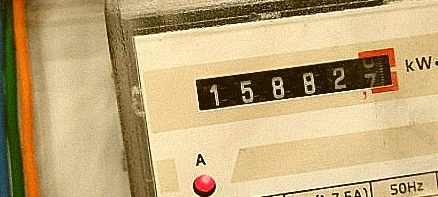1: (206, 80, 221, 107)
2: (329, 63, 348, 90)
5: (237, 76, 254, 104)
7: (361, 68, 378, 87)
8: (268, 72, 287, 99), (299, 68, 317, 95)
screen: (183, 40, 408, 125)
